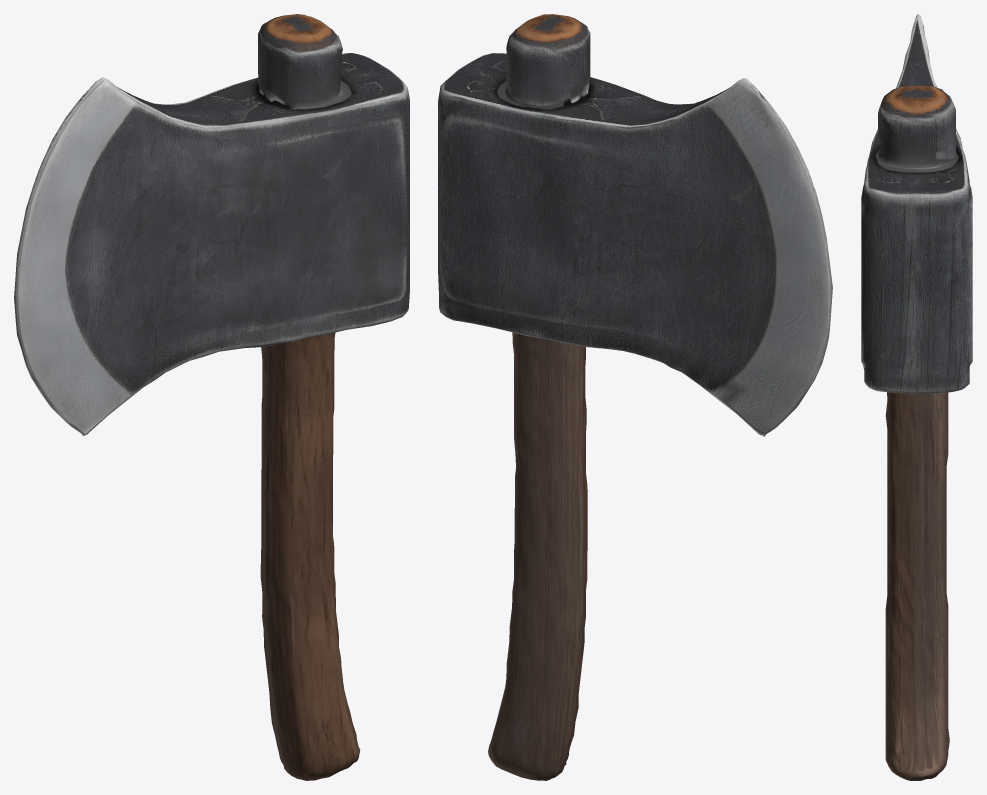
File: Axe_Stone.fbx
The picture shows the model from 3 angles, left to right: view 1: azimuth 30°, elevation 25°; view 2: azimuth 150°, elevation 25°; view 3: azimuth 270°, elevation 25°; orthographic projection. The views are drawn at different scales.
Parts seen in each view (by area): view 1: Mesh_0; view 2: Mesh_0; view 3: Mesh_0.
Part boxes in pixels (bbox=[...]): Mesh_0: bbox=[14, 14, 409, 780]; Mesh_0: bbox=[438, 14, 832, 780]; Mesh_0: bbox=[861, 14, 972, 780].
Size of the model in its own units: 99.8 by 191 by 28.57.
1 material, 1 textured.
